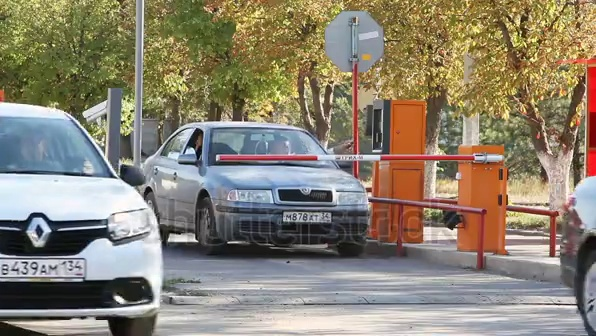licenseplate: (1, 256, 86, 281), (281, 206, 335, 229)
